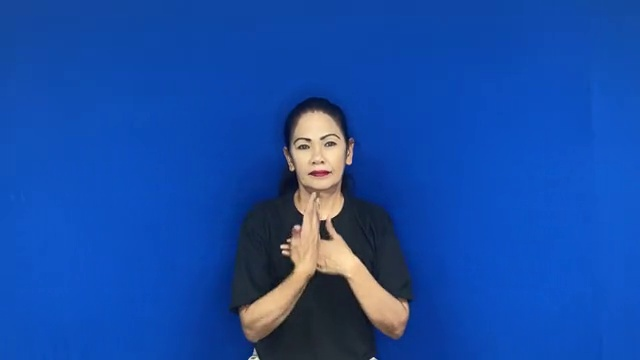bread: (274, 190, 364, 286)
